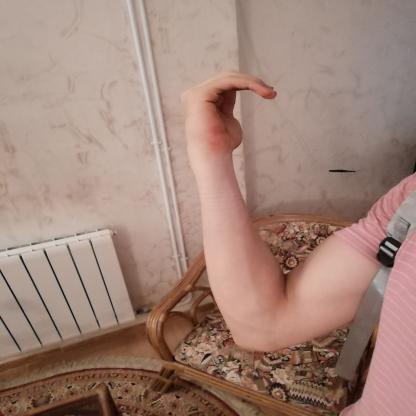HAA: (159, 58, 289, 162)
